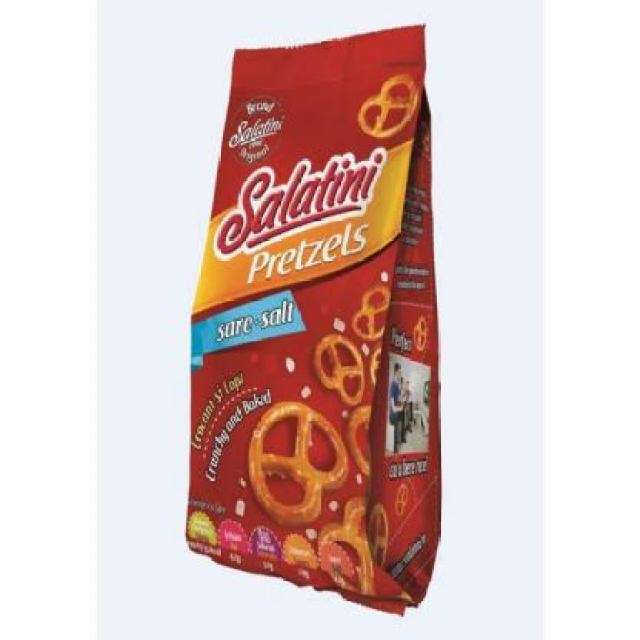Salatini: (187, 19, 447, 623)
